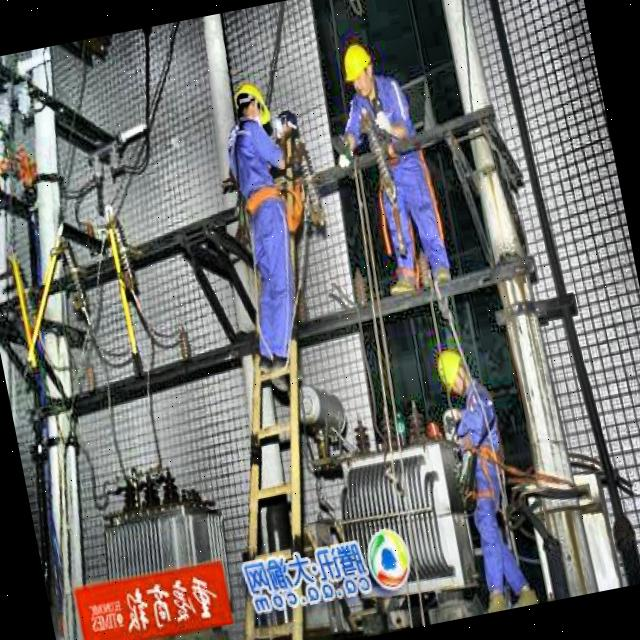helmet: (336, 35, 380, 104), (229, 74, 276, 135), (431, 338, 472, 404)
